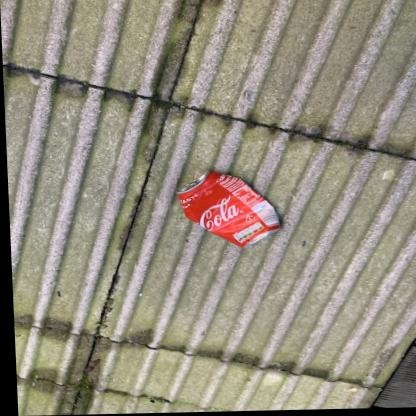trash: (178, 171, 279, 246)
